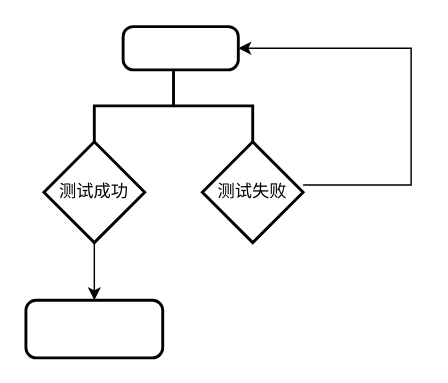
Some shapes in this 448 by 383 pixel diagram are drawn without their labels. Each missing label, with the box of its shape:
Test测试: (121, 24, 239, 71)
输出测试成功: (24, 298, 163, 359)
